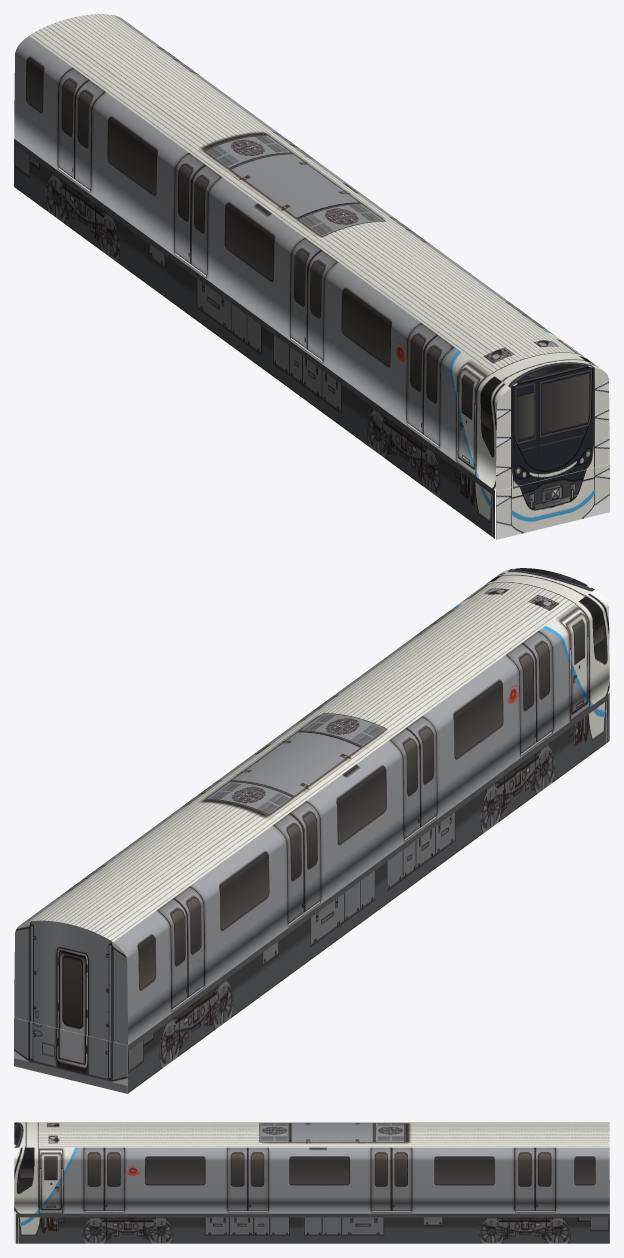
Rendered from car1.glb.
3 views of the same model, one above another, from view 1: azimuth 30°, elevation 25°; view 2: azimuth 150°, elevation 25°; view 3: azimuth 270°, elevation 25° (orthographic). The views are drawn at different scales.
Visible parts, largest first — view 1: tokyu-3020-car1; view 2: tokyu-3020-car1; view 3: tokyu-3020-car1.
Part boxes in pixels (x1,y1,x2,y2): tokyu-3020-car1: [14, 14, 609, 539]; tokyu-3020-car1: [14, 568, 609, 1093]; tokyu-3020-car1: [14, 1122, 609, 1243].
Size of the model in its own units: 2.79 by 3.64 by 20.5.
Materials: 9 (8 with a texture image).
